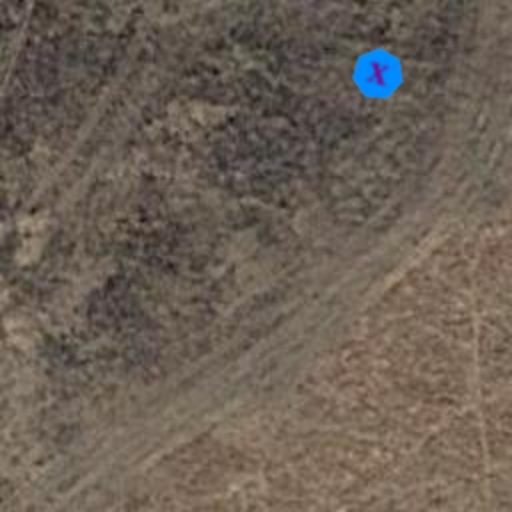heptagon: (344, 40, 412, 108)
